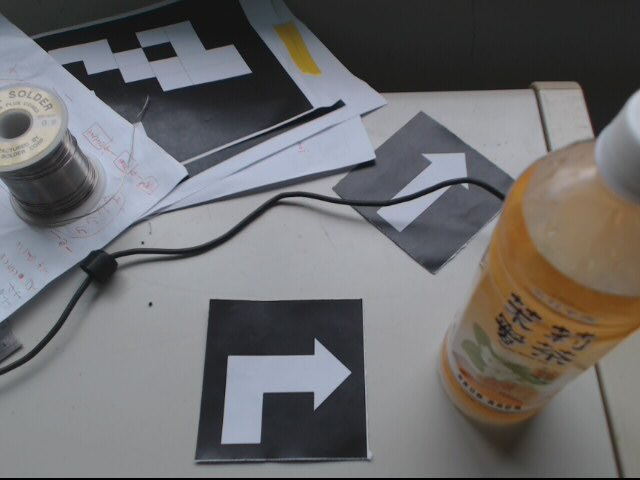right: (193, 297, 371, 462)
